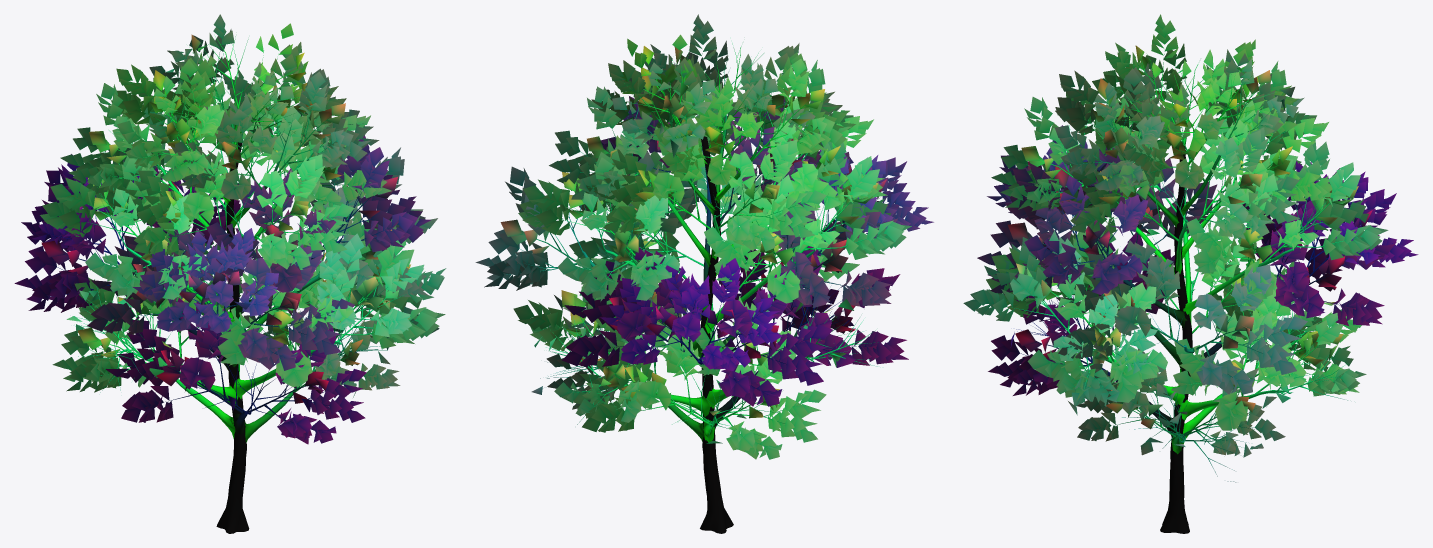
File: Tree LOD2.fbx
The picture shows the model from 3 angles, left to right: view 1: azimuth 30°, elevation 25°; view 2: azimuth 150°, elevation 25°; view 3: azimuth 270°, elevation 25°; orthographic projection.
Parts seen in each view (by area): view 1: leaf_maple_1, SM_TreeIt_Maple; view 2: leaf_maple_1, SM_TreeIt_Maple; view 3: leaf_maple_1, SM_TreeIt_Maple.
Part boxes in pixels (bbox=[...]): leaf_maple_1: bbox=[14, 14, 446, 444]; SM_TreeIt_Maple: bbox=[49, 36, 414, 533]; leaf_maple_1: bbox=[475, 14, 933, 459]; SM_TreeIt_Maple: bbox=[506, 43, 893, 533]; leaf_maple_1: bbox=[963, 14, 1418, 482]; SM_TreeIt_Maple: bbox=[1011, 54, 1362, 533].
Size of the model in its own units: 3227 by 3976 by 3396.
